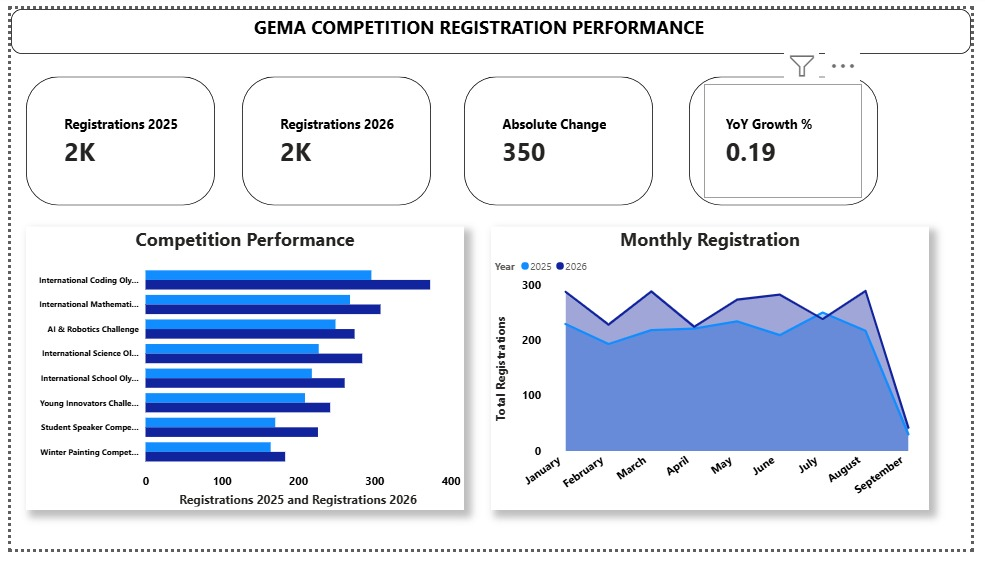

The dashboard page shown, as its layout file describes it:
{"tool":"powerbi","page":{"name":"Page 1","canvas":[1280,720],"ordinal":0},"visuals":[{"type":"shape","box":[0,0,1280,60],"z":0},{"type":"textbox","box":[126,2,996,58],"z":2000},{"type":"shape","box":[20,90,252,172],"z":4000},{"type":"shape","box":[308,90,252,172],"z":4001},{"type":"shape","box":[604,90,252,172],"z":4002},{"type":"shape","box":[904,90,252,172],"z":4003},{"type":"cardVisual","fields":{"Data":["All_Registrations.Registrations 2025"]},"box":[42,100,210,152],"z":4004},{"type":"cardVisual","fields":{"Data":["All_Registrations.Registrations 2026"]},"box":[330,100,210,152],"z":4005},{"type":"cardVisual","fields":{"Data":["All_Registrations.Absolute Change"]},"box":[626,100,210,152],"z":4006},{"type":"cardVisual","fields":{"Data":["All_Registrations.YoY Growth %"]},"box":[924,100,210,152],"z":4007},{"type":"clusteredBarChart","title":"Competition Performance","fields":{"Category":["All_Registrations.Competition"],"Y":["All_Registrations.Registrations 2025","All_Registrations.Registrations 2026"]},"box":[20,290,584,378],"z":4008},{"type":"lineChart","title":"Monthly Registration","fields":{"Category":["All_Registrations.Registration Date.Variation.Date Hierarchy.Month"],"Y":["All_Registrations.Total Registrations"],"Series":["All_Registrations.Year"]},"box":[640,290,584,378],"z":4009}]}

Visuals, with their boxes in screenshot pixels (x1, y1, x2, y2), scaled from the page's 1280x720 canvas onto the 985x562 screenshot:
shape: <bbox>0, 0, 984, 47</bbox>
textbox: <bbox>97, 2, 863, 47</bbox>
shape: <bbox>15, 70, 209, 205</bbox>
shape: <bbox>237, 70, 431, 205</bbox>
shape: <bbox>465, 70, 659, 205</bbox>
shape: <bbox>696, 70, 890, 205</bbox>
cardVisual - All_Registrations.Registrations 2025: <bbox>32, 78, 194, 197</bbox>
cardVisual - All_Registrations.Registrations 2026: <bbox>254, 78, 416, 197</bbox>
cardVisual - All_Registrations.Absolute Change: <bbox>482, 78, 643, 197</bbox>
cardVisual - All_Registrations.YoY Growth %: <bbox>711, 78, 873, 197</bbox>
"Competition Performance" clusteredBarChart: <bbox>15, 226, 465, 521</bbox>
"Monthly Registration" lineChart: <bbox>492, 226, 942, 521</bbox>
